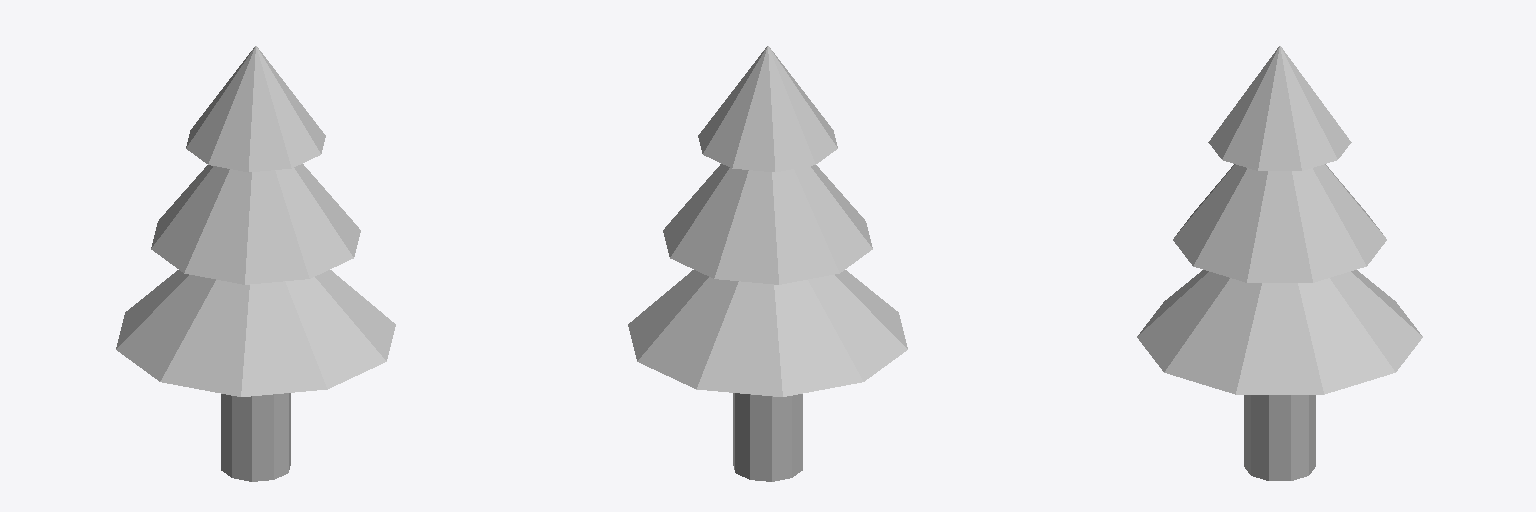
File: tree.obj
3 renders of one model, left to right at view 1: azimuth 30°, elevation 25°; view 2: azimuth 150°, elevation 25°; view 3: azimuth 270°, elevation 25°, orthographic.
Parts seen in each view (by area): view 1: Tree_Cone; view 2: Tree_Cone; view 3: Tree_Cone.
Boxes of the visible parts, <box> form: Tree_Cone: <box>116,46,395,481</box>; Tree_Cone: <box>628,46,907,481</box>; Tree_Cone: <box>1137,46,1422,480</box>.
Size of the model in its own units: 3.8 by 6.5 by 4.